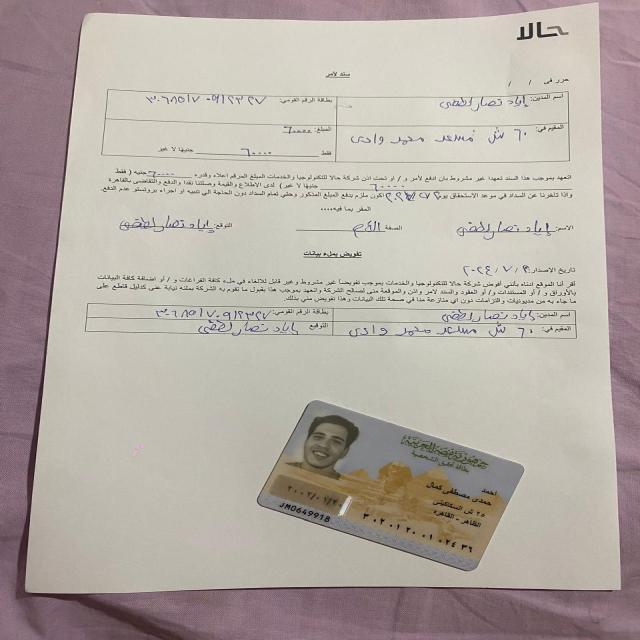ID-cards: (242, 395, 536, 579)
